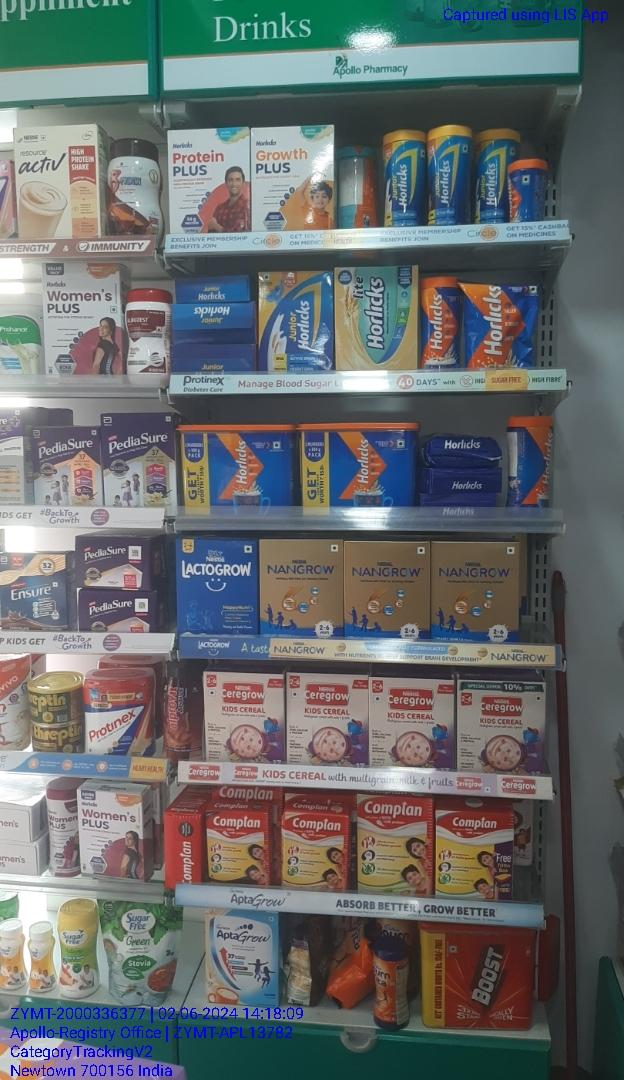HORLICK_MALT_1_KG_CONTAINER: (302, 423, 419, 514), (182, 425, 297, 511)
PEDIASURE_VANILLA_500_G_PACK: (104, 414, 177, 510)
PROTINEX_VANILLA_400_G_JAR: (85, 676, 151, 757)
